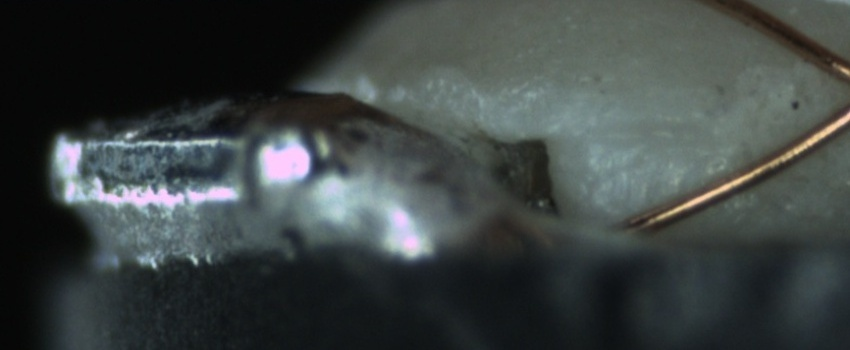CL: (820, 38, 850, 138)
DL: (584, 98, 715, 166)
